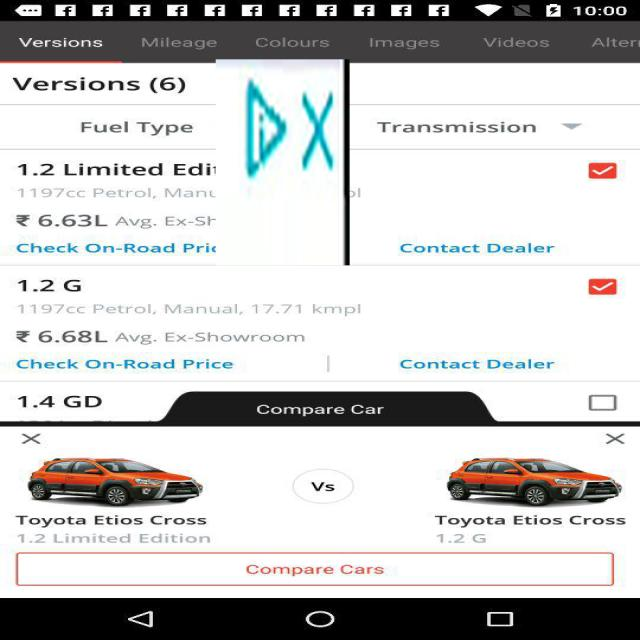sneaking: (216, 59, 350, 266)
